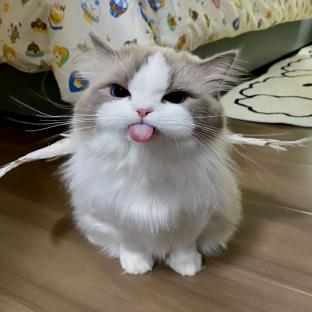Animal: (59, 33, 242, 275)
